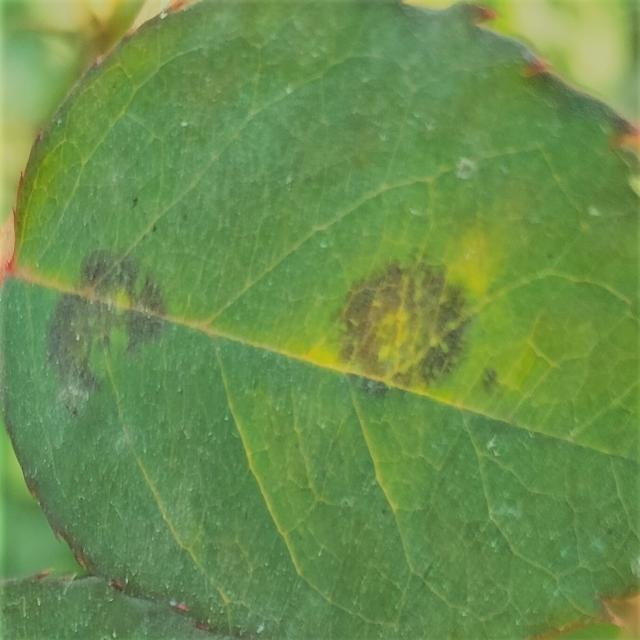Black_spot: (41, 245, 170, 417), (329, 253, 477, 393)
Rose: (0, 0, 638, 638)
